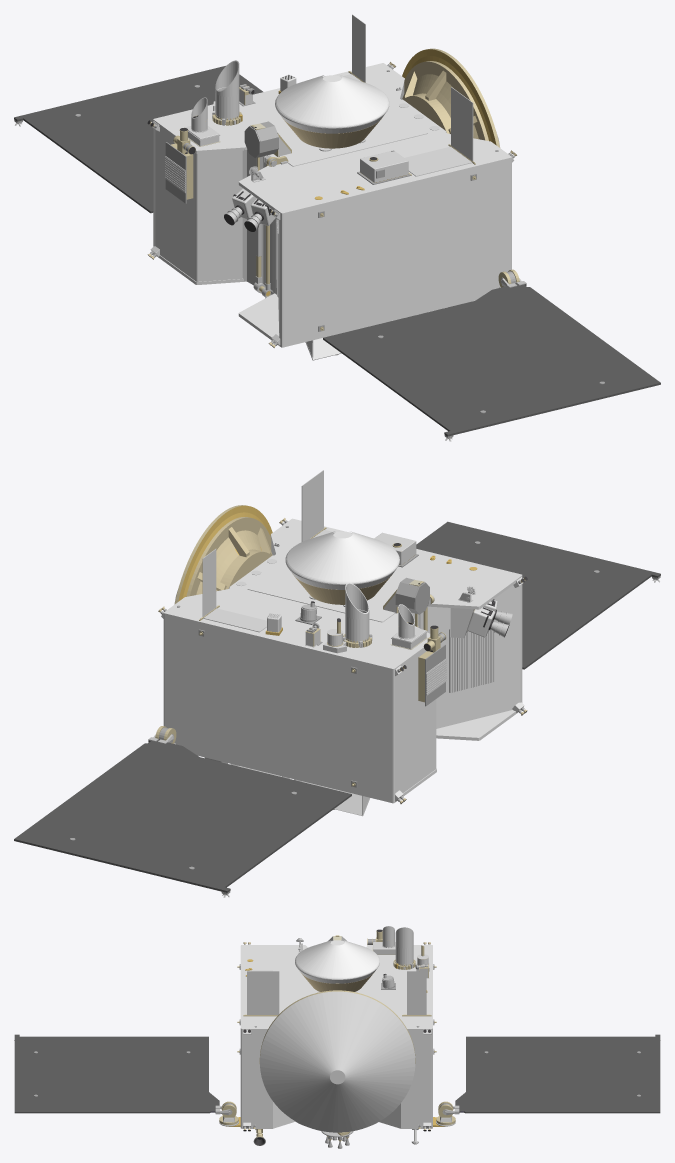
Rendered from osiris-rex.glb.
3 views of the same model, one above another, from view 1: azimuth 30°, elevation 25°; view 2: azimuth 150°, elevation 25°; view 3: azimuth 270°, elevation 25° (orthographic). The views are drawn at different scales.
Parts seen in each view (by area): view 1: Main Layer; view 2: Main Layer; view 3: Main Layer.
Part boxes in pixels (x1,y1,x2,y2): Main Layer: (14, 14, 660, 441); Main Layer: (14, 470, 660, 897); Main Layer: (14, 926, 660, 1148).
Size of the model in its own units: 13.72 by 12.01 by 34.65.
